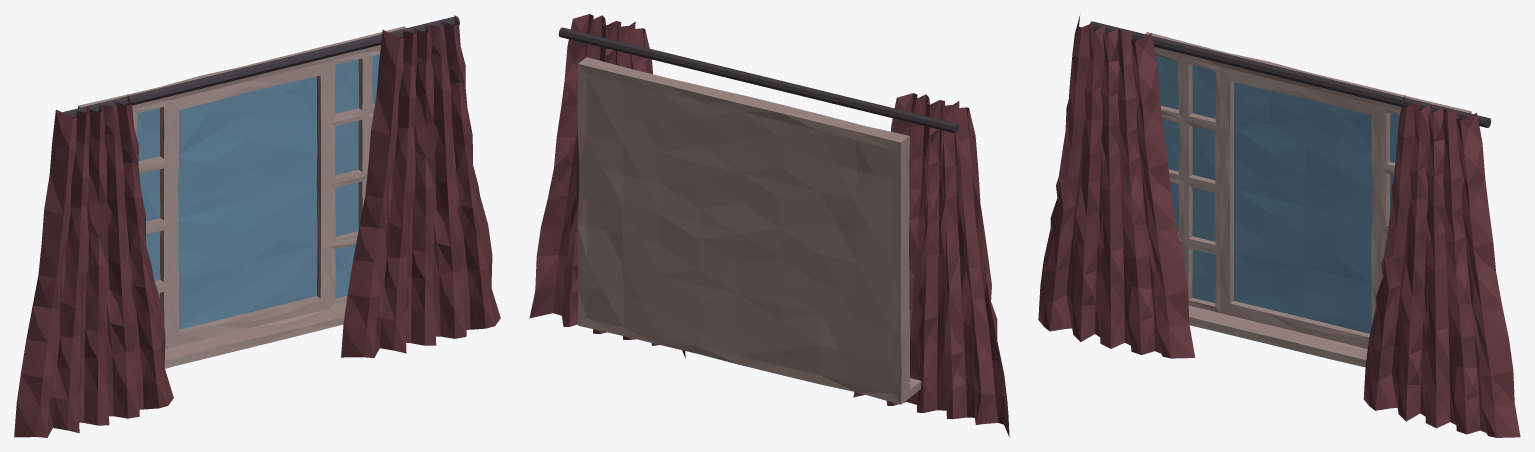
File: bedroom_window.fbx
3 views of the same model, side by side, from view 1: azimuth 30°, elevation 25°; view 2: azimuth 150°, elevation 25°; view 3: azimuth 330°, elevation 25° (orthographic).
Visible parts, largest first — view 1: bedroom_window; view 2: bedroom_window; view 3: bedroom_window.
Boxes of the visible parts, x1,y1,x2,y2 form: bedroom_window: [14, 14, 500, 437]; bedroom_window: [529, 14, 1009, 437]; bedroom_window: [1038, 14, 1520, 437].
Size of the model in its own units: 203 by 127 by 25.45.
